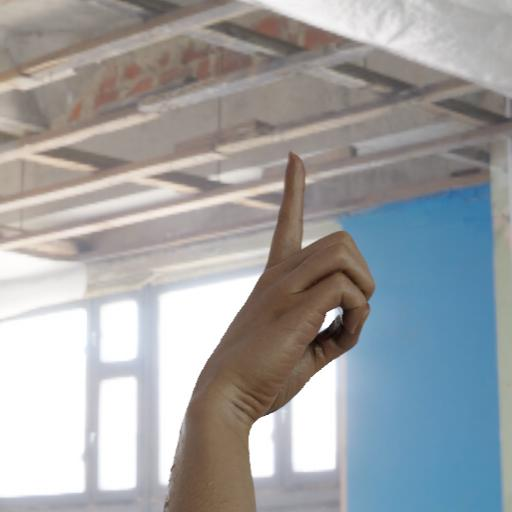D: (194, 129, 390, 429)
